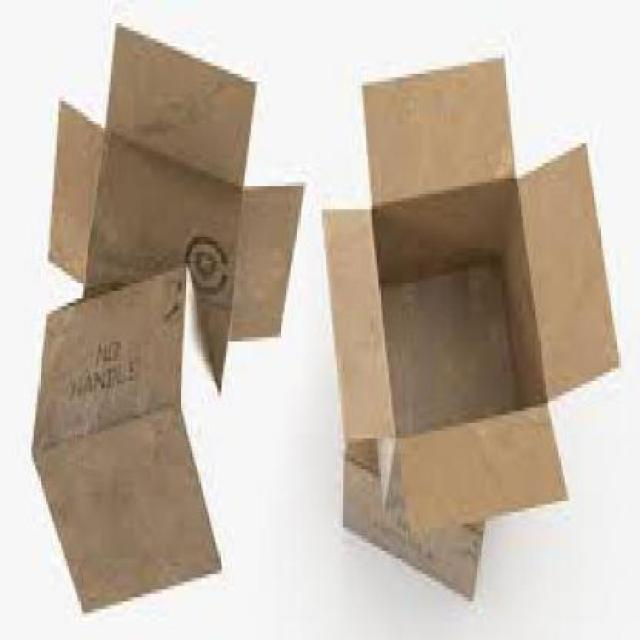box: (320, 54, 617, 535), (48, 20, 302, 385), (31, 260, 220, 609)
